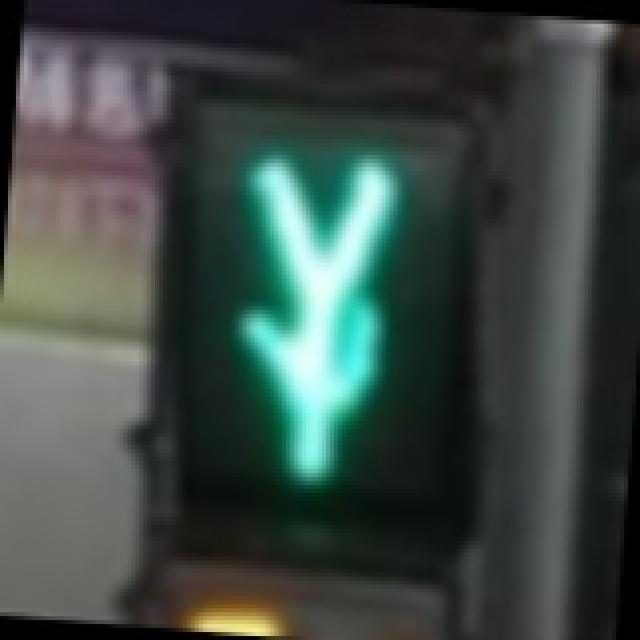geen-crossing: (155, 88, 473, 540)
